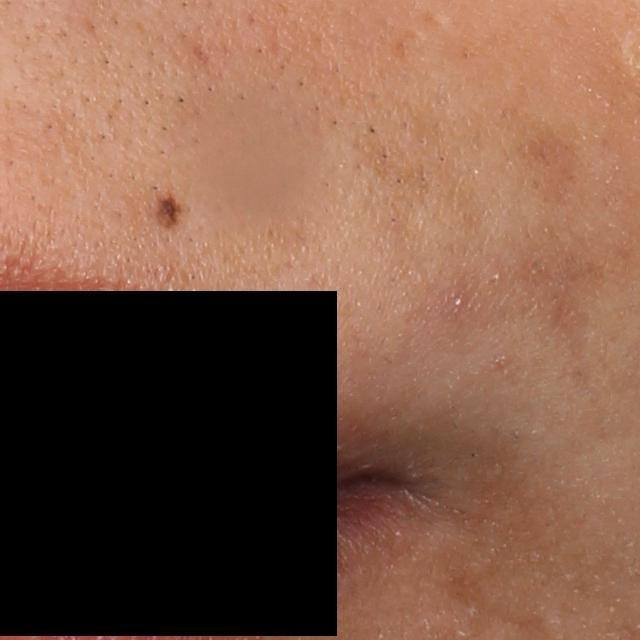nevus: (153, 187, 184, 230)
other: (185, 91, 329, 247)
